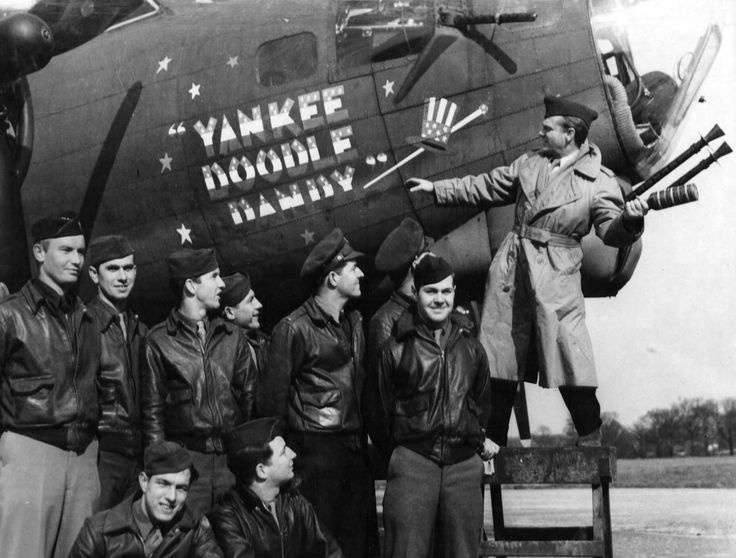bad: (98, 252, 141, 295), (50, 238, 93, 281), (146, 473, 189, 516), (421, 282, 457, 318)
